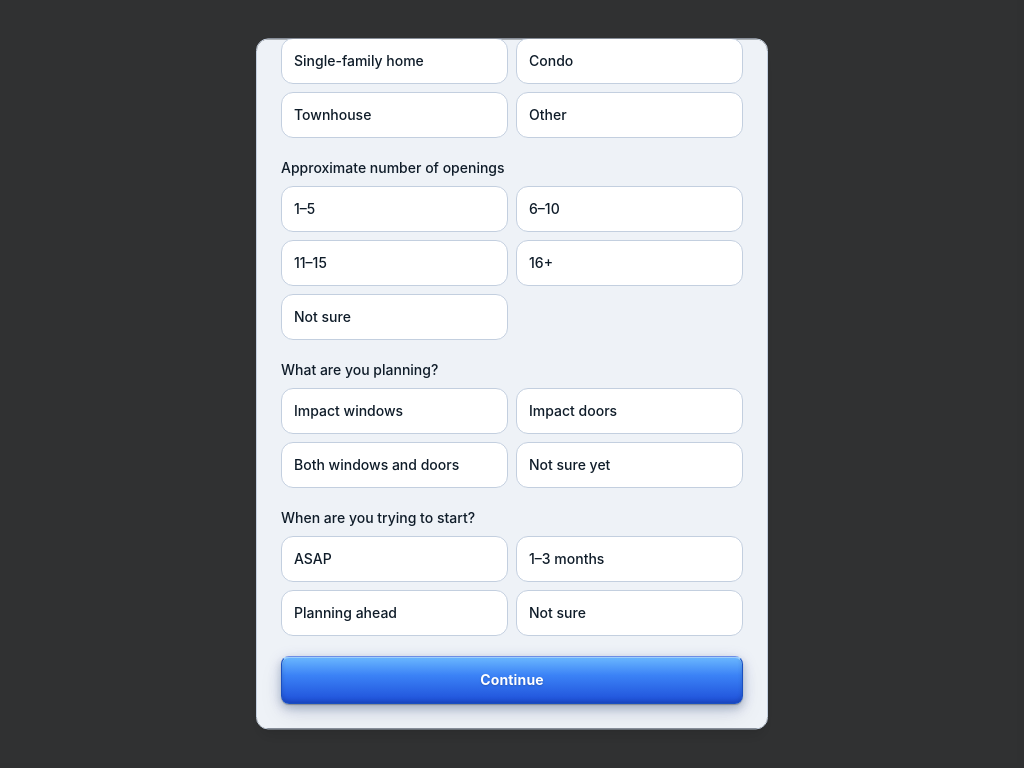
FirstQuoteIntakeModal › cannot continue Step 1 without required project basics
The width and height of the screenshot is (1024, 768).
(page scrolled)
What coordinates should you click on to do the following:
click the button "Continue"
I would click on:
 (512, 680)
Its box is [281,656,743,704].
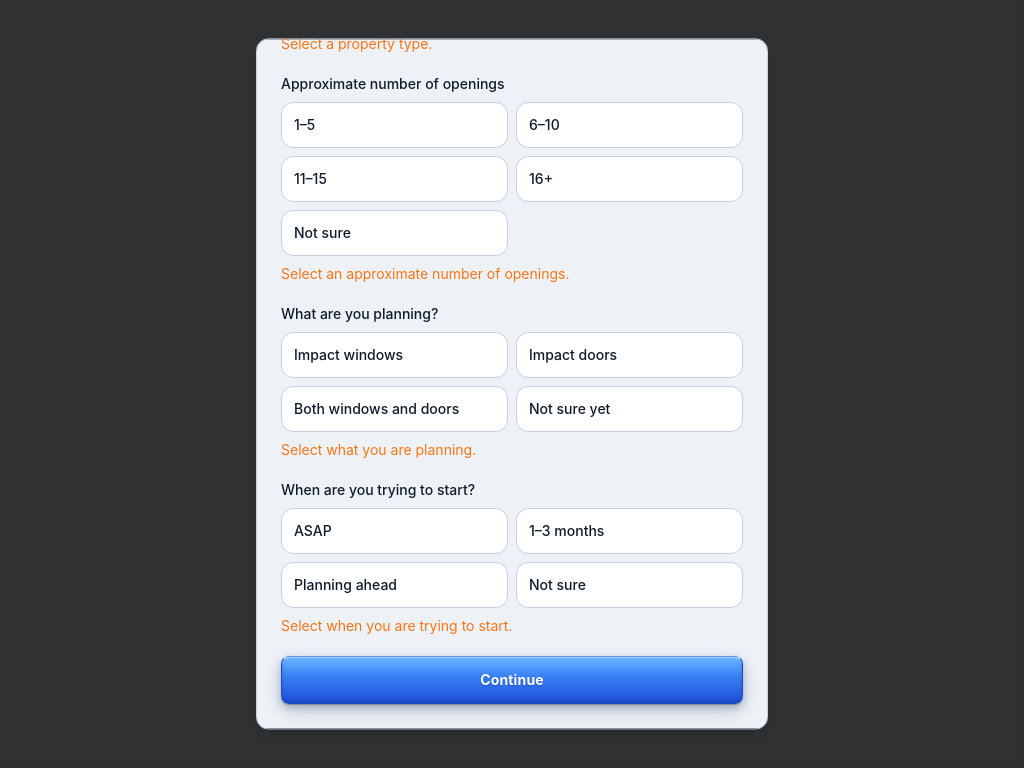
Expected: the text "Select a property type." is shown, [281,38,432,52]
